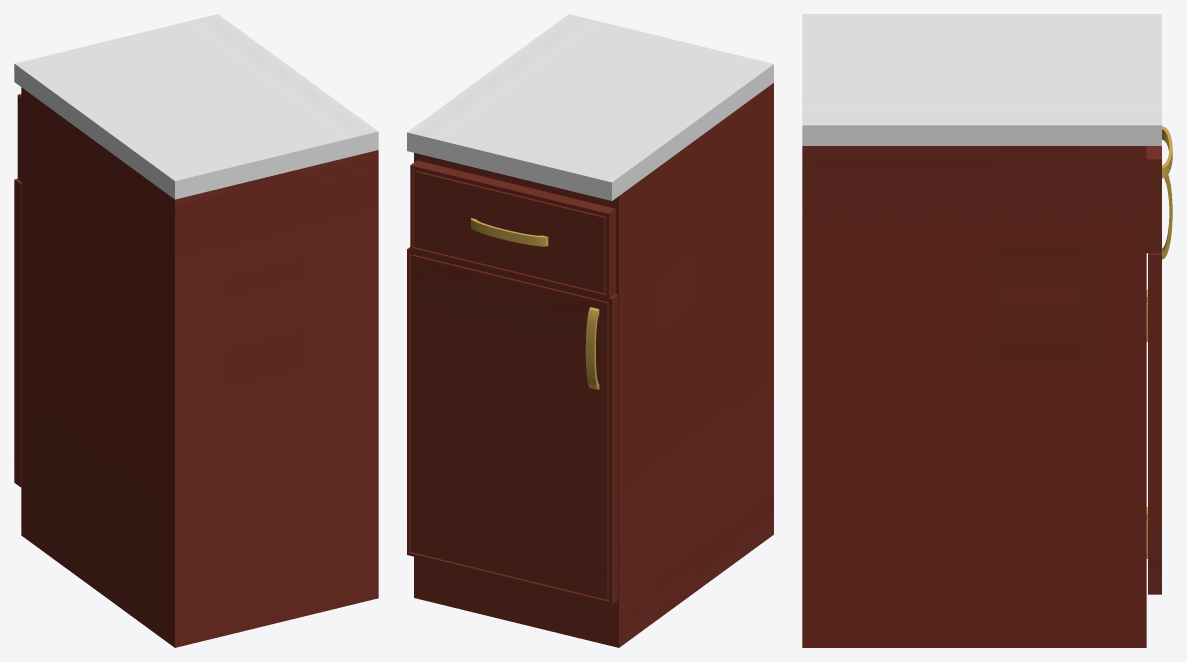
File: CabinetF04.glb
3 renders of one model, left to right at view 1: azimuth 30°, elevation 25°; view 2: azimuth 150°, elevation 25°; view 3: azimuth 270°, elevation 25°, orthographic. The views are drawn at different scales.
Parts seen in each view (by area): view 1: CabinetF04_model, CabinetF03Door; view 2: CabinetF04_model, CabinetF03Door, CabinetF04Drawer01; view 3: CabinetF04_model, CabinetF03Door, CabinetF04Drawer01.
Part boxes in pixels (bbox=[...]): CabinetF04_model: bbox=[14, 14, 378, 647]; CabinetF03Door: bbox=[14, 179, 21, 487]; CabinetF04_model: bbox=[407, 14, 773, 647]; CabinetF03Door: bbox=[407, 247, 618, 604]; CabinetF04Drawer01: bbox=[410, 160, 615, 298]; CabinetF04_model: bbox=[802, 14, 1161, 647]; CabinetF03Door: bbox=[1146, 174, 1172, 594]; CabinetF04Drawer01: bbox=[1146, 126, 1172, 253].
Size of the model in its own units: 0.9256 by 2.02 by 1.29.
Materials: 1 (1 with a texture image).
